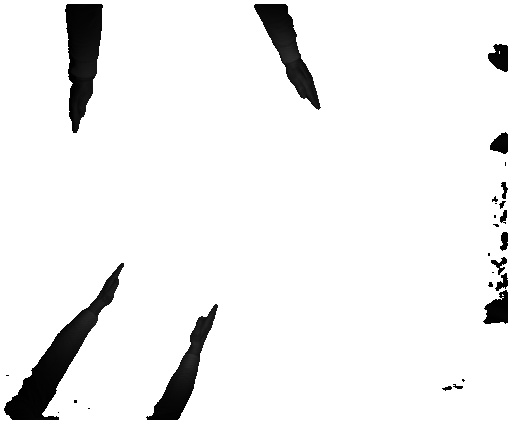spine: (280, 65, 327, 111), (91, 256, 127, 315), (189, 304, 223, 354), (64, 84, 95, 135)
